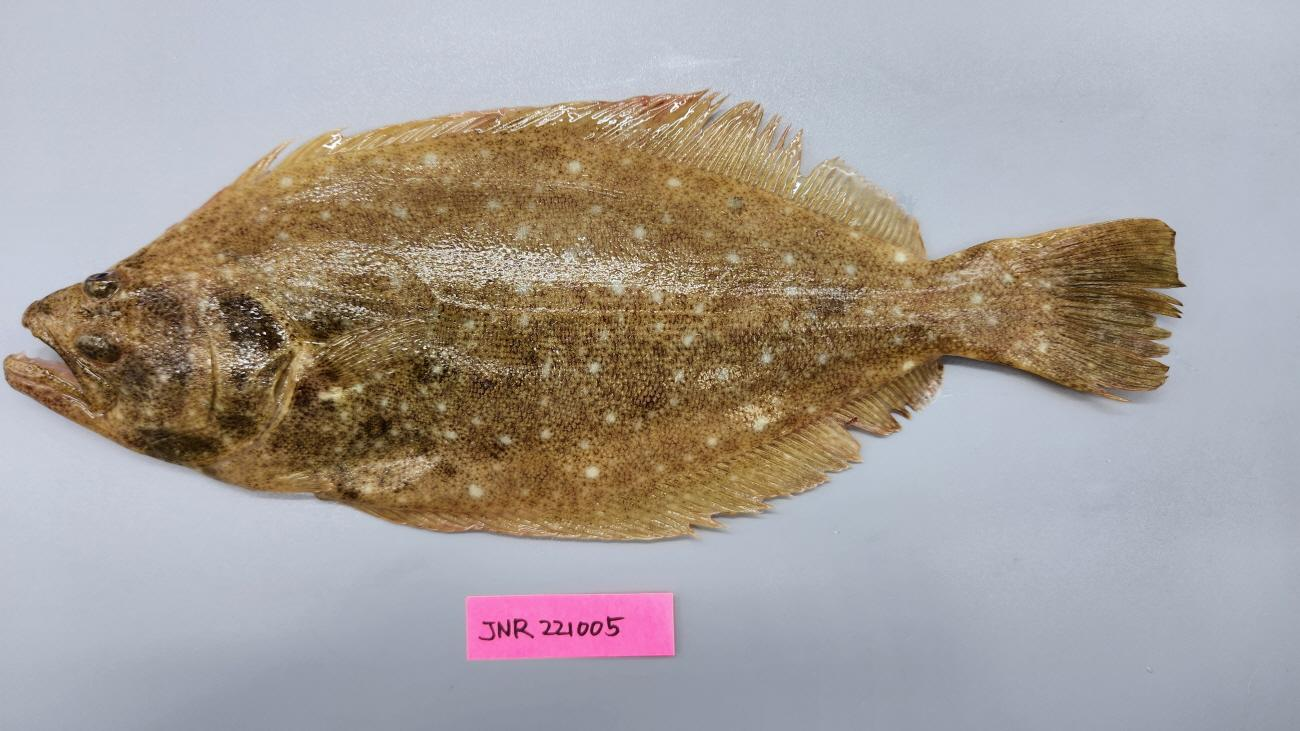POOUN: (2, 87, 1186, 543)
